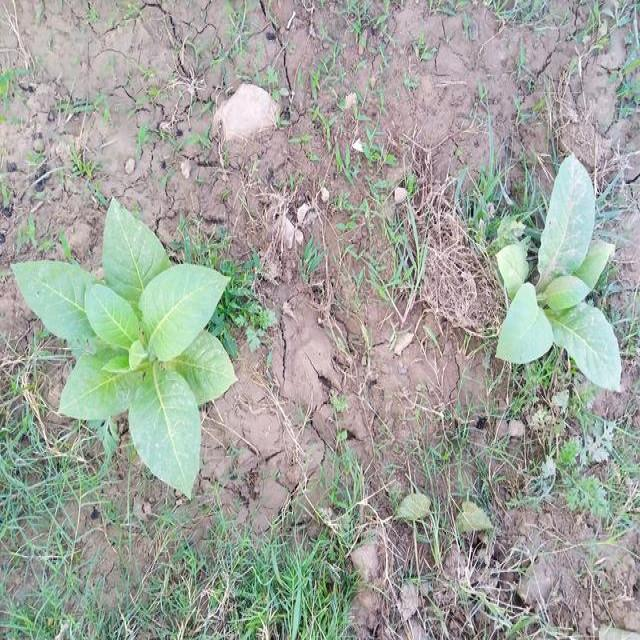crop: (21, 187, 236, 493), (502, 153, 623, 390)
